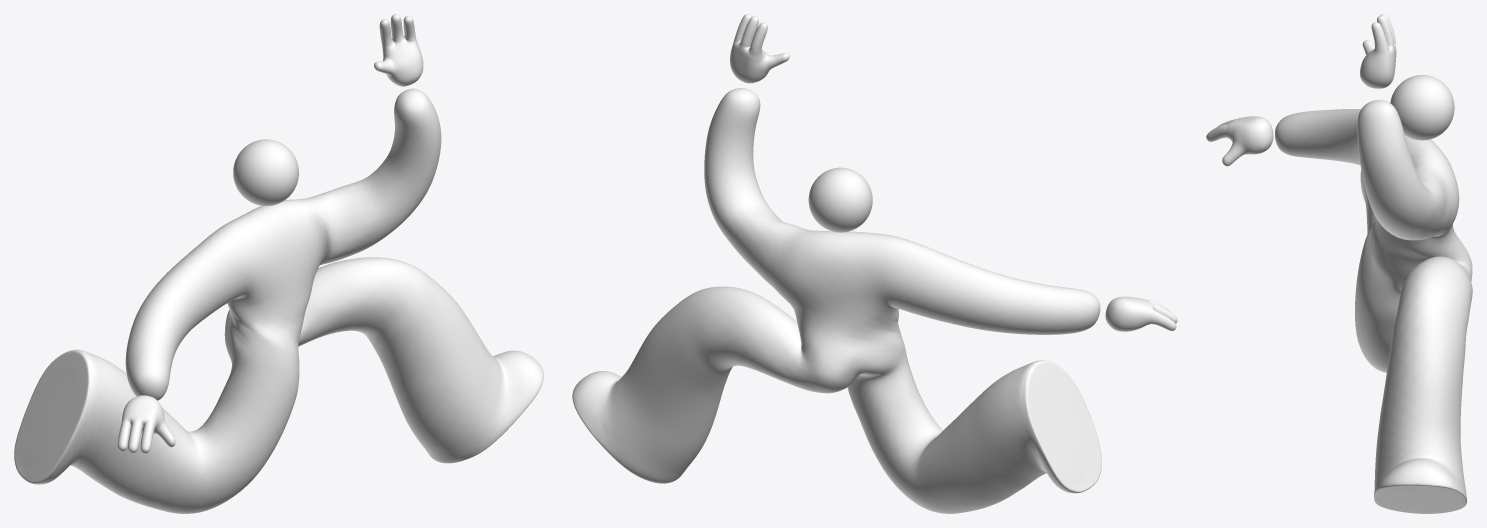
Rendered from K2-man3.gltf.
3 views of the same model, side by side, from view 1: azimuth 30°, elevation 25°; view 2: azimuth 150°, elevation 25°; view 3: azimuth 270°, elevation 25° (orthographic). The views are drawn at different scales.
Parts seen in each view (by area): view 1: k2-man3; view 2: k2-man3; view 3: k2-man3.
Boxes of the visible parts, x1=… form: k2-man3: x1=14, y1=14, x2=543, y2=513; k2-man3: x1=572, y1=14, x2=1177, y2=513; k2-man3: x1=1206, y1=14, x2=1472, y2=513.
Size of the model in its own units: 38.87 by 34.17 by 17.63.
Materials: 1 (1 with a texture image).
